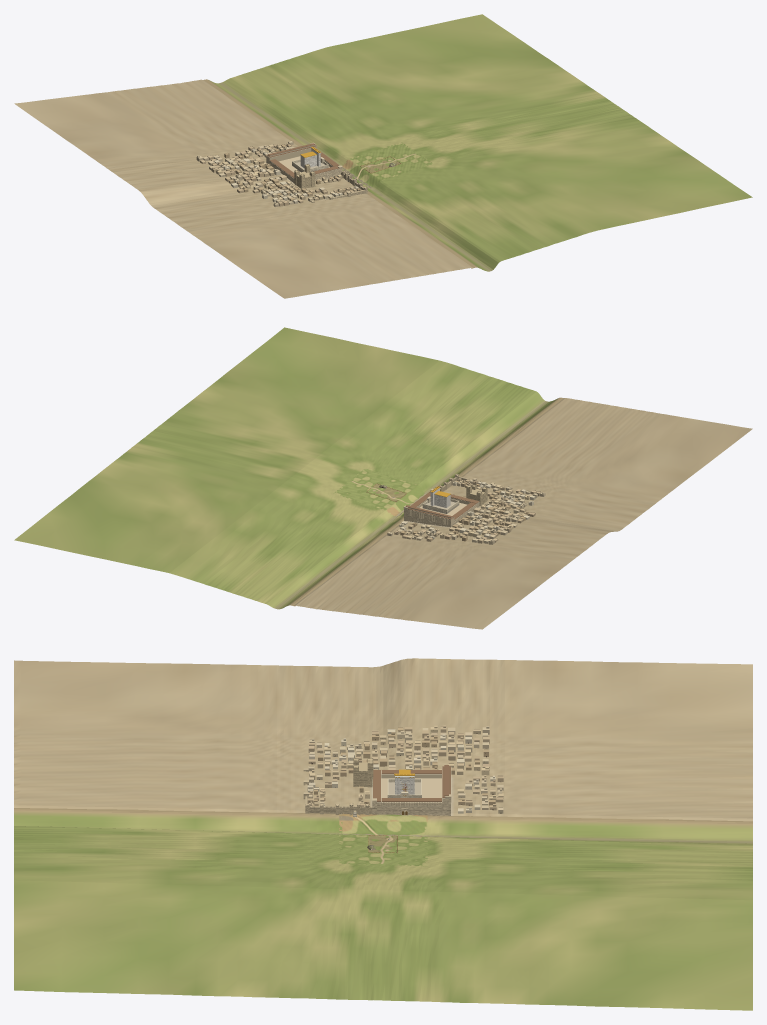
The model's file is getsemani_cenario.glb.
3 views of the same model, one above another, from view 1: azimuth 30°, elevation 25°; view 2: azimuth 150°, elevation 25°; view 3: azimuth 270°, elevation 25° (orthographic). The views are drawn at different scales.
Parts seen in each view (by area): view 1: Getsemani_Fundo, Cidade_Chao, Casas_Cidade, Getsemani_Terreno, Templo_Muros, Santuario; view 2: Getsemani_Fundo, Cidade_Chao, Casas_Cidade, Getsemani_Terreno, Templo_Muros, Santuario; view 3: Getsemani_Fundo, Cidade_Chao, Casas_Cidade, Getsemani_Terreno, Templo_Muros, Santuario, Muro_Cidade.
Part boxes in pixels (box(x1,y1,x2,y2)): Getsemani_Fundo: box(203, 14, 752, 271); Cidade_Chao: box(14, 79, 472, 298); Casas_Cidade: box(196, 140, 362, 207); Getsemani_Terreno: box(342, 142, 432, 188); Templo_Muros: box(266, 142, 342, 182); Santuario: box(292, 147, 328, 172); Getsemani_Fundo: box(14, 327, 563, 609); Cidade_Chao: box(294, 398, 752, 629); Casas_Cidade: box(387, 478, 545, 544); Getsemani_Terreno: box(333, 469, 426, 517); Templo_Muros: box(403, 488, 479, 527); Santuario: box(422, 486, 459, 513); Getsemani_Fundo: box(14, 808, 752, 1010); Cidade_Chao: box(14, 658, 752, 821); Casas_Cidade: box(307, 725, 503, 813); Getsemani_Terreno: box(339, 813, 427, 866); Templo_Muros: box(372, 766, 451, 815); Santuario: box(387, 769, 421, 797); Muro_Cidade: box(303, 768, 372, 815).
Bounding box in the file's own units: 1040 × 73.75 × 1040.
Materials: 15 (1 with a texture image).
